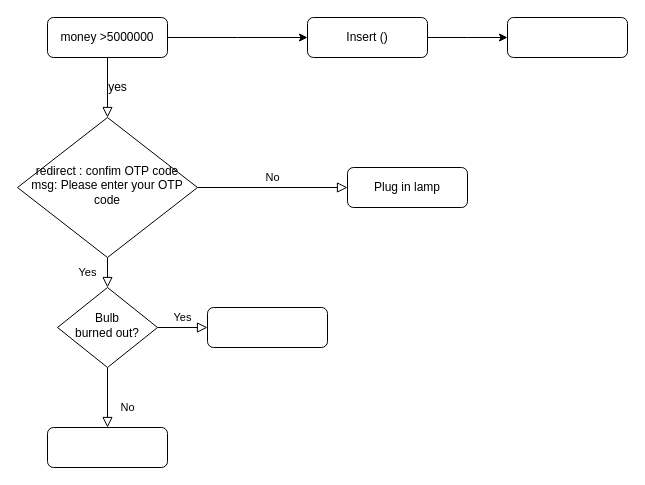
The diagram is 645 pixels wide and 485 high, and some of its shapes have lost their labels. The centre of each missing label's shape, as x and y in pixels:
Repair Lamp: point (107, 447)
Replace Bulb: point (267, 327)
respone: point (567, 37)
